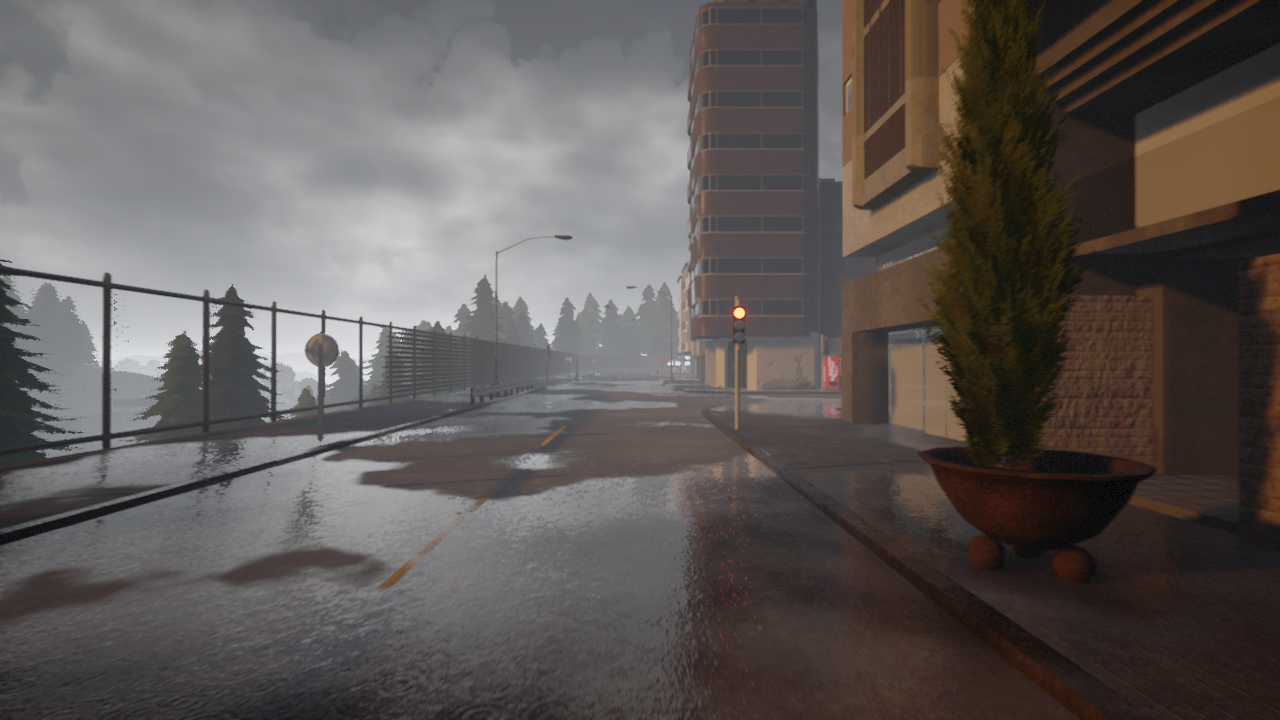red: (730, 305, 747, 345)
